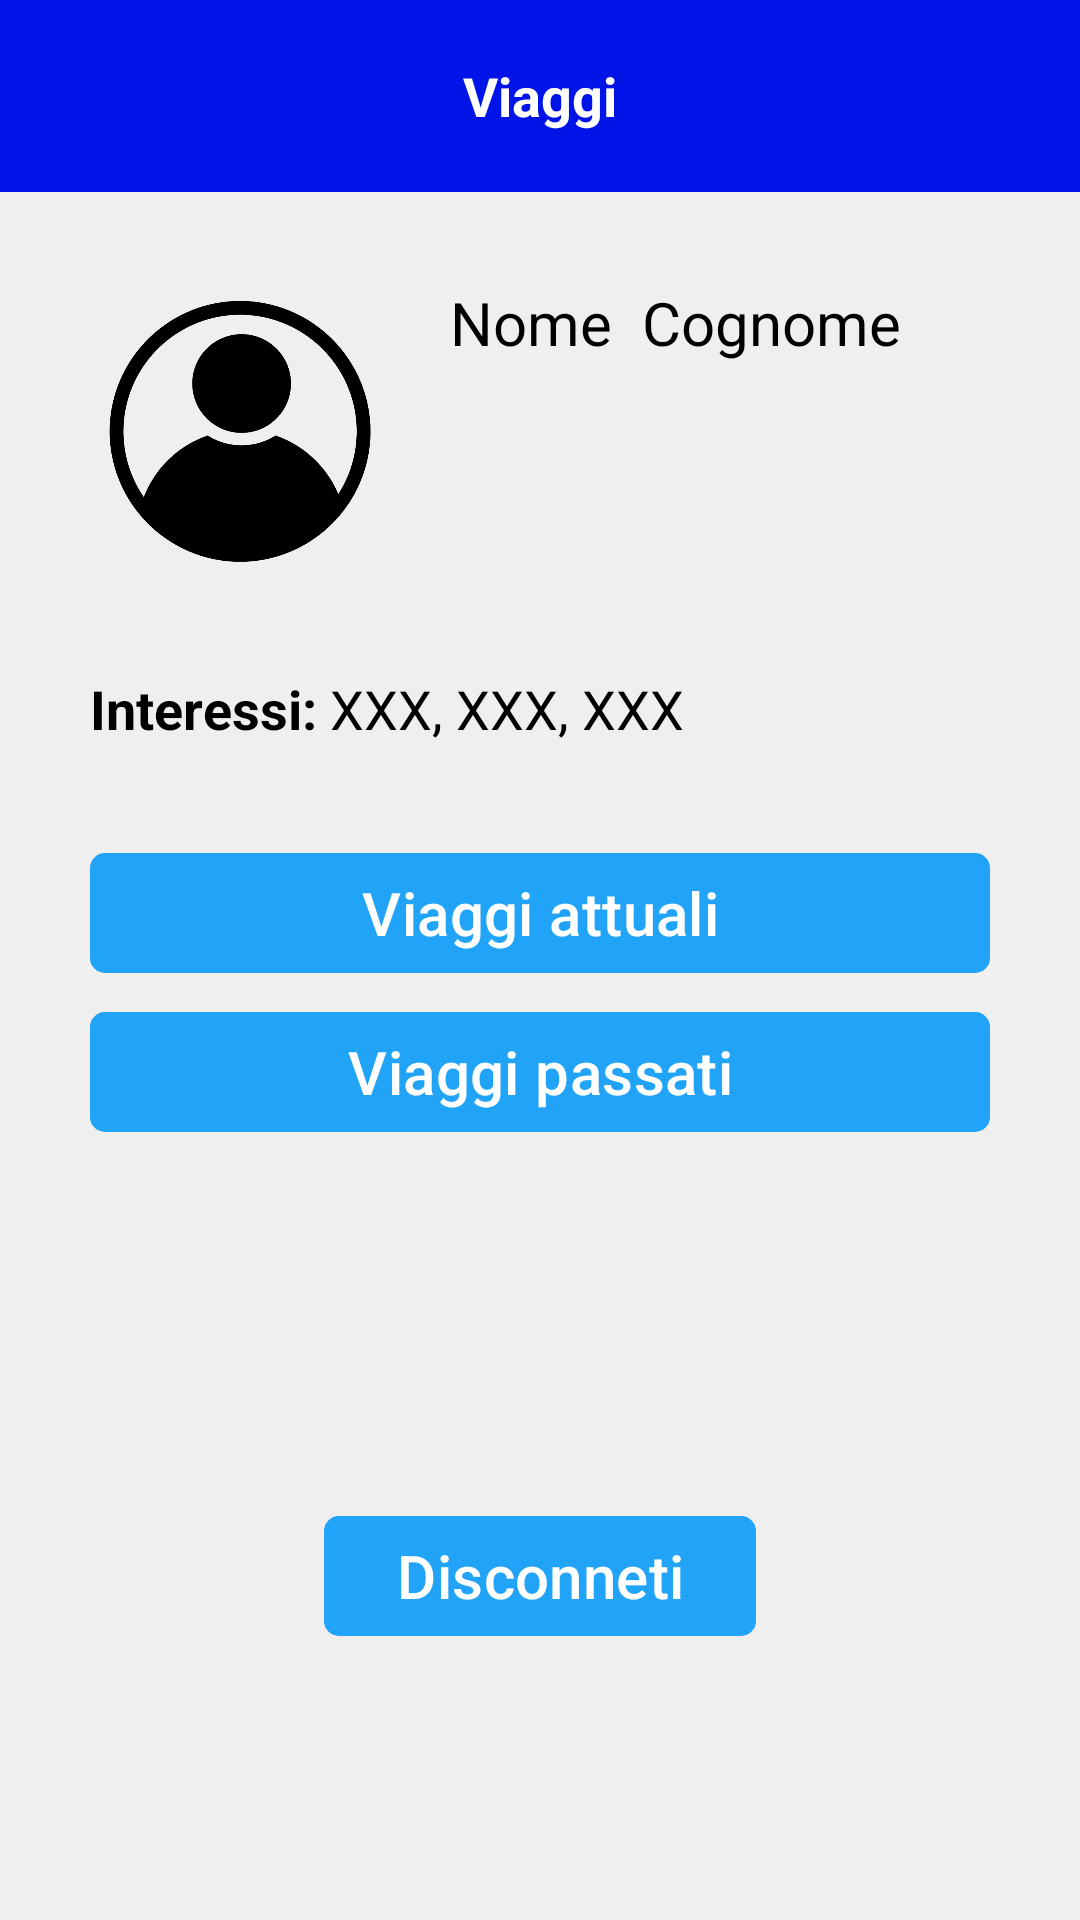

Icon bounding boxes for this 1080×1920 phone screenshot, format (x1, y1, x2, y2):
profile picture: (109, 301, 371, 562)
